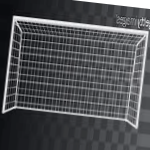goals: (2, 14, 150, 131)
